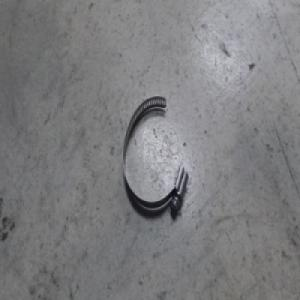AdjustableClamp: (119, 93, 189, 220)
